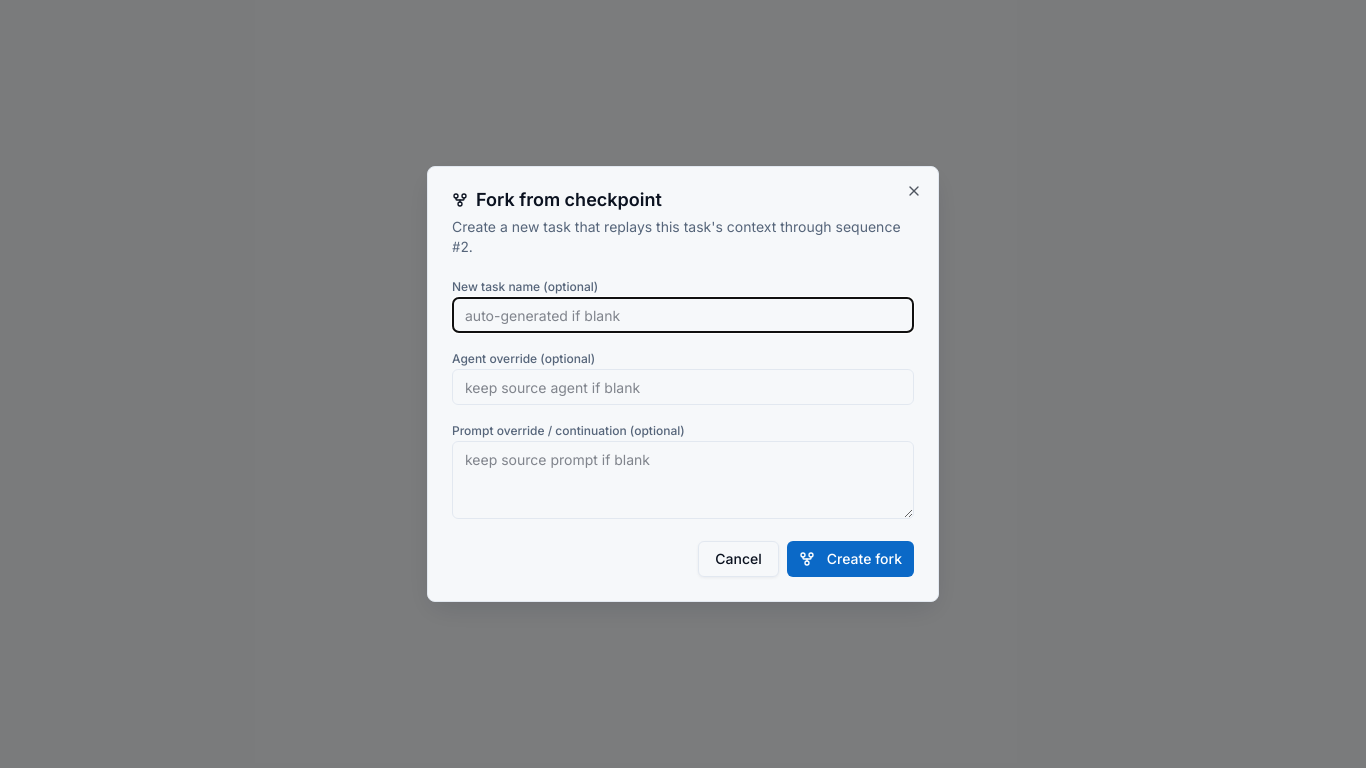
Test: ForkDialog › regenerates the idempotency key when a fork parameter is edited after a failure
Step 1. Click the button "Create fork" → (850, 559), box x1=787 y1=541 x2=914 y2=577
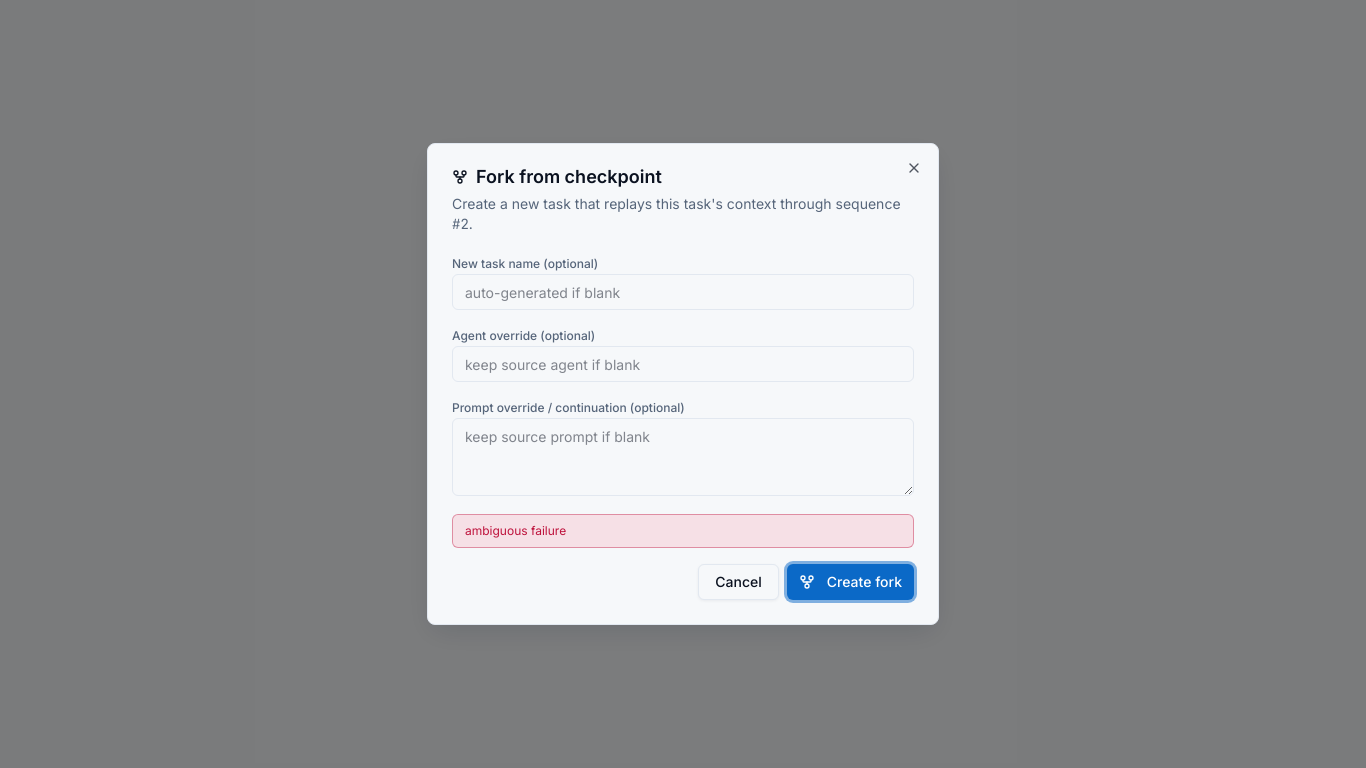
Now the text "ambiguous failure" is shown, box x1=452 y1=514 x2=914 y2=548
Step 2. Type "different prompt" into the text box labelled "Prompt override / continuation (optional)" → (683, 457), box x1=452 y1=418 x2=914 y2=496
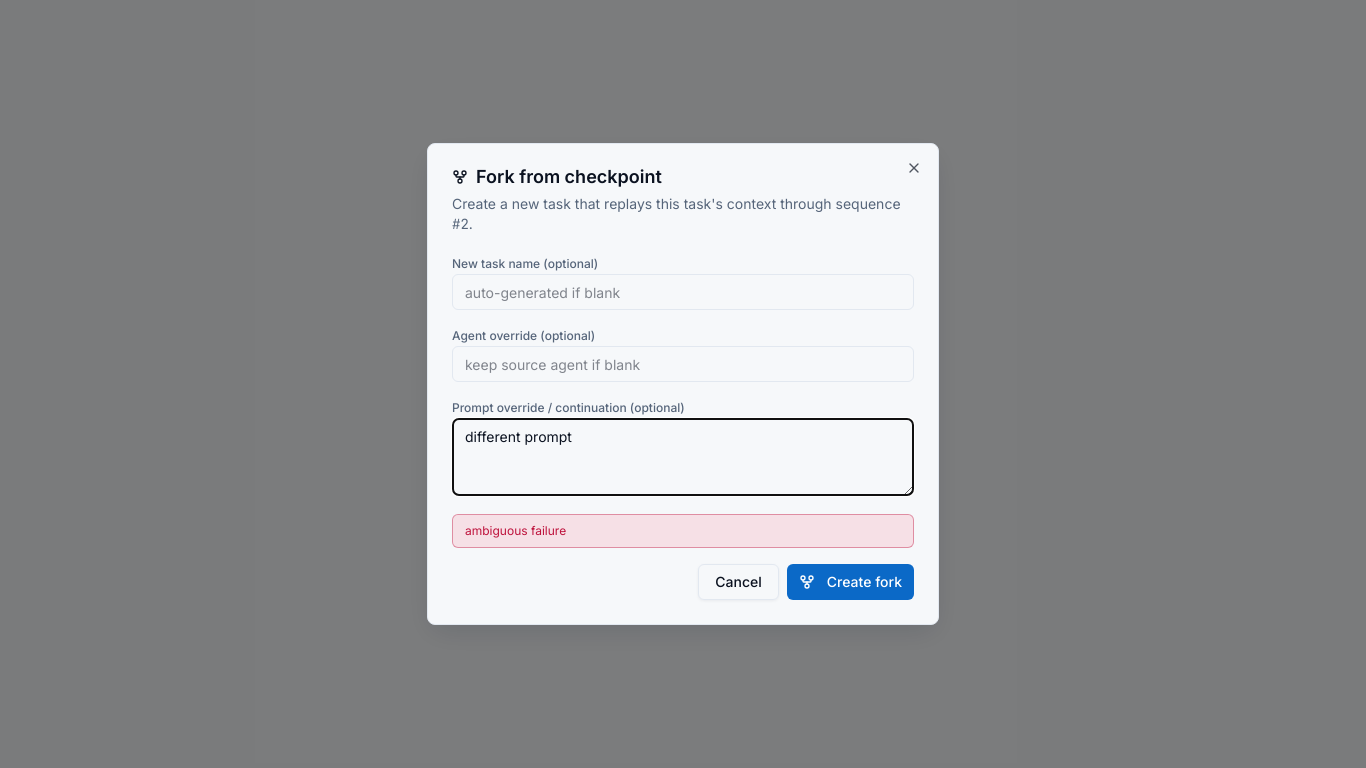
Step 3. Click the button "Create fork" → (850, 582), box x1=787 y1=564 x2=914 y2=600
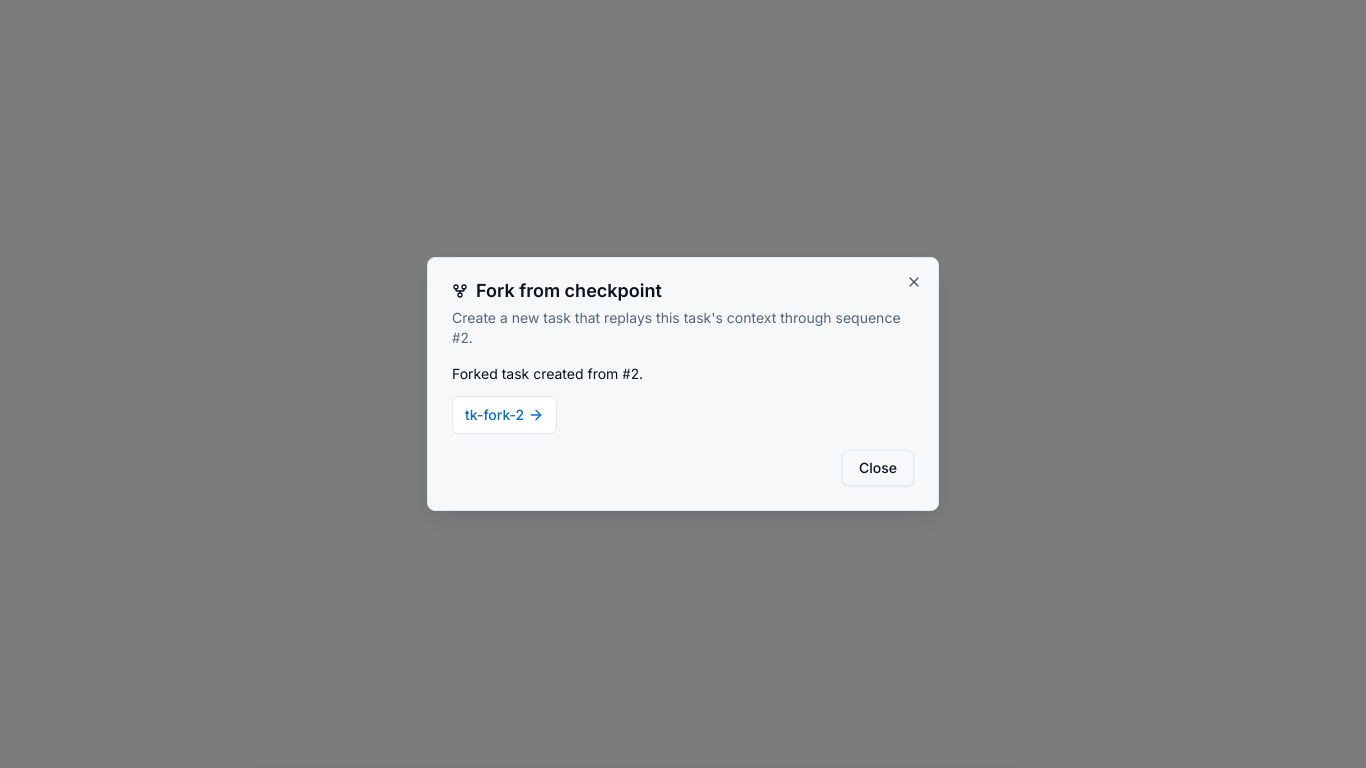
Now the link "tk-fork-2" is shown, box x1=452 y1=396 x2=557 y2=434
